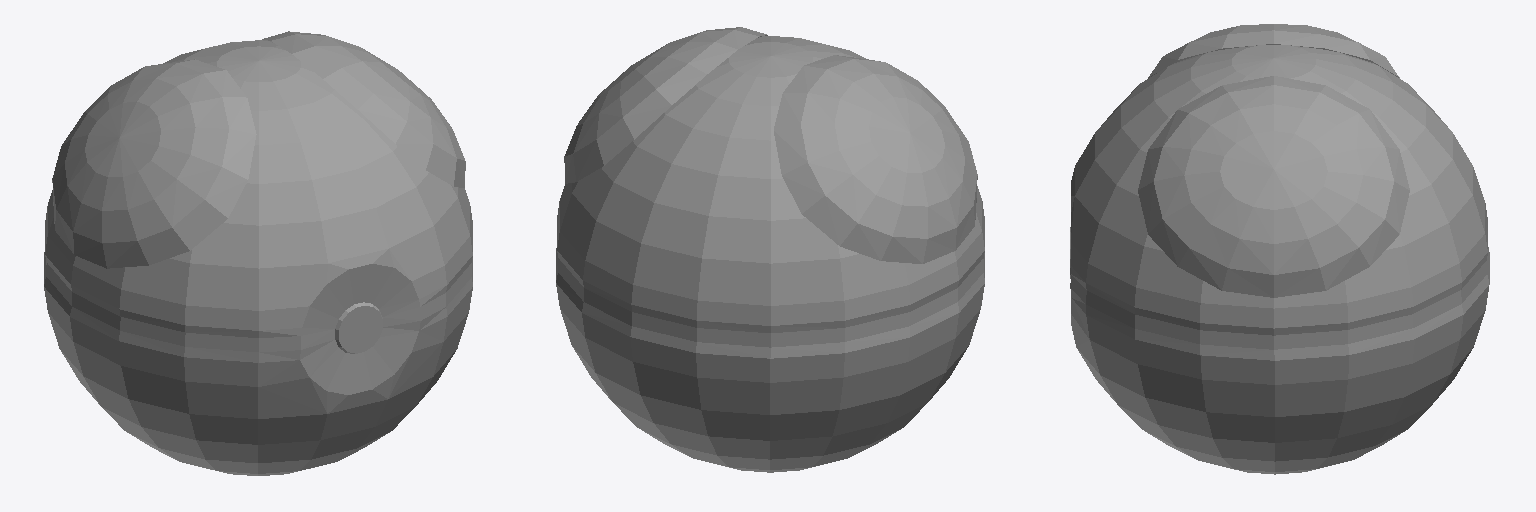
File: MasterBall.obj
The picture shows the model from 3 angles: view 1: azimuth 30°, elevation 25°; view 2: azimuth 150°, elevation 25°; view 3: azimuth 270°, elevation 25°; orthographic projection.
Parts seen in each view (by area): view 1: MasterBall; view 2: MasterBall; view 3: MasterBall.
Boxes of the visible parts, x1,y1,x2,y2 form: MasterBall: [44, 31, 472, 475]; MasterBall: [556, 27, 984, 472]; MasterBall: [1070, 24, 1489, 474].
Size of the model in its own units: 0.1532 by 0.1538 by 0.1474.